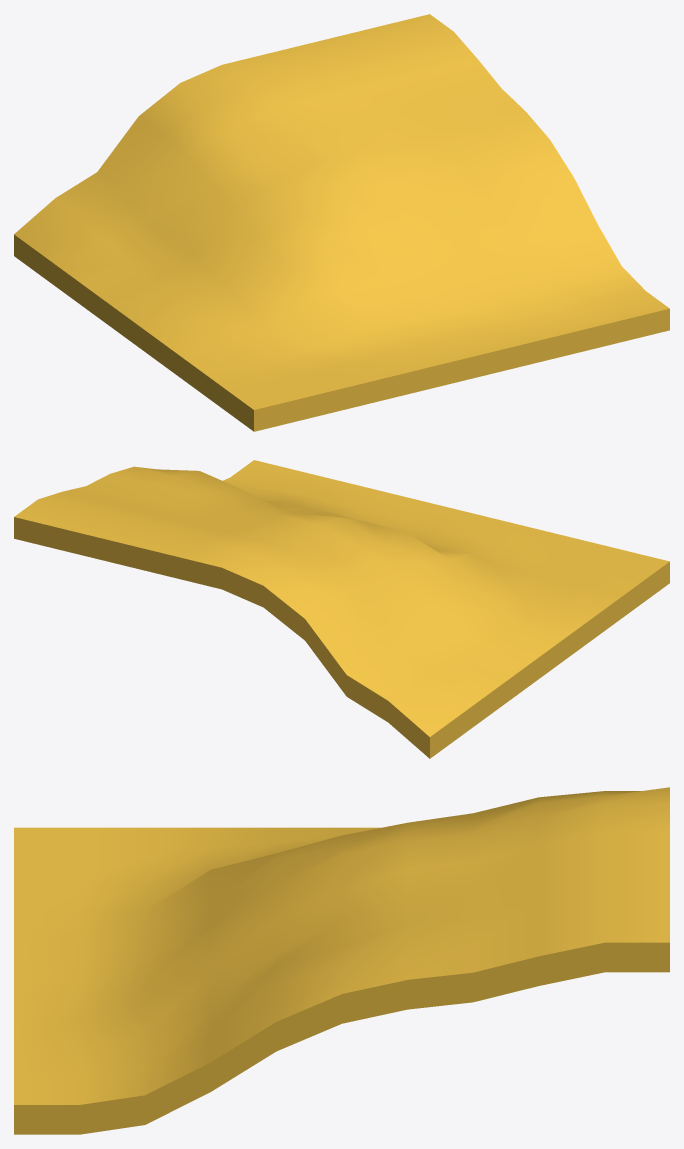
Rendered from Flach - Unten - Ecke b - a.fbx.
3 renders of one model, top to bottom at view 1: azimuth 30°, elevation 25°; view 2: azimuth 150°, elevation 25°; view 3: azimuth 270°, elevation 25°, orthographic. The views are drawn at different scales.
Visible parts, largest first — view 1: Flach - Unten - Ecke b - a; view 2: Flach - Unten - Ecke b - a; view 3: Flach - Unten - Ecke b - a.
Part boxes in pixels (box(x1,y1,x2,y2)): Flach - Unten - Ecke b - a: box(14, 14, 669, 431); Flach - Unten - Ecke b - a: box(14, 460, 669, 758); Flach - Unten - Ecke b - a: box(14, 787, 669, 1134).
Bounding box in the file's own units: 394 × 127 × 394.
